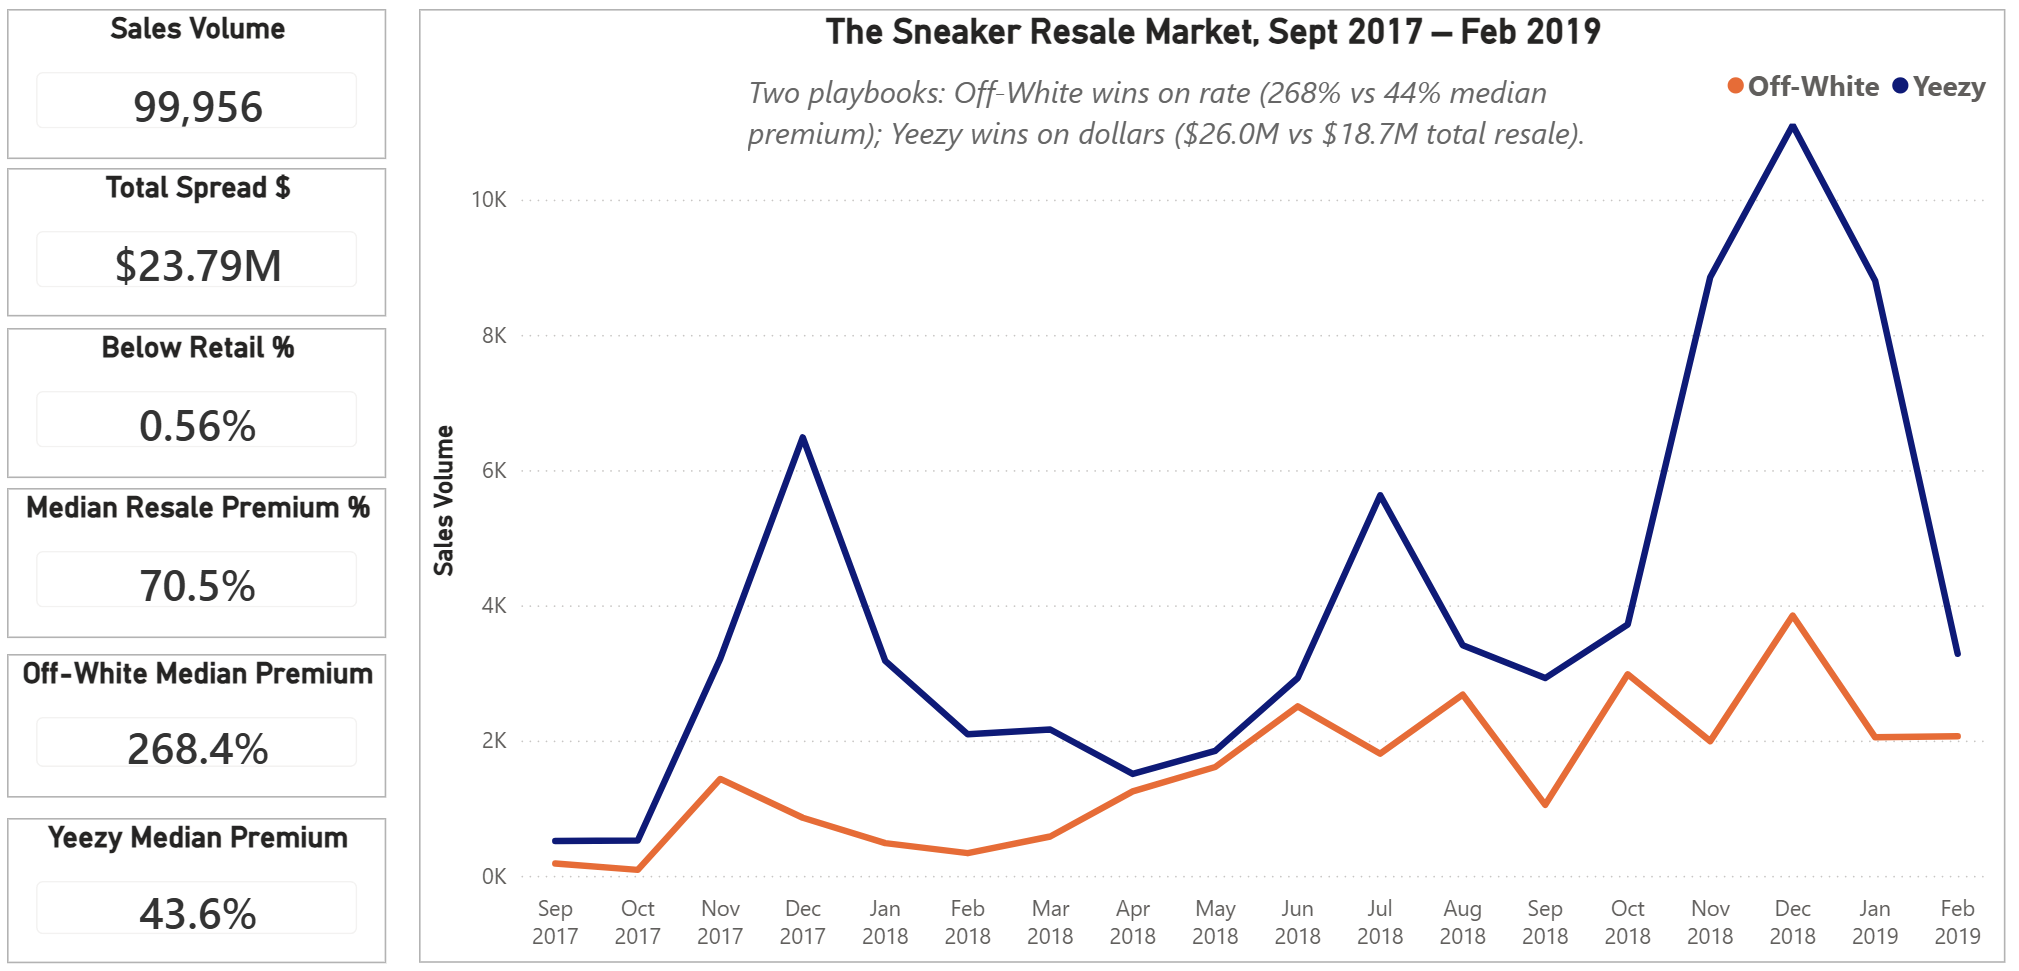

The dashboard page shown, as its layout file describes it:
{"tool":"powerbi","page":{"name":"Market Overview","canvas":[1280,720],"ordinal":0},"visuals":[{"type":"lineChart","title":"The Sneaker Resale Market, Sept 2017 – Feb 2019","fields":{"Category":["Dim_Date.Month-Year"],"Series":["dim_sneaker.brand"],"Y":["fact_sales.Sales Volume"]},"box":[275,115.7,982.9,591.4],"z":0},{"type":"cardVisual","title":"Sales Volume","fields":{"Data":["fact_sales.Sales Volume"]},"box":[20,115.7,235,92.9],"z":1000},{"type":"cardVisual","title":"Total Spread $","fields":{"Data":["fact_sales.Total Spread $"]},"box":[20,214.3,235,92.1],"z":2000},{"type":"cardVisual","title":"Below Retail %","fields":{"Data":["fact_sales.Below Retail %"]},"box":[20,313.6,235,92.9],"z":3000},{"type":"cardVisual","title":"Median Resale Premium %","fields":{"Data":["fact_sales.Median Resale Premium %"]},"box":[20,412.9,235,92.9],"z":4000},{"type":"cardVisual","title":"Off-White Median Premium","fields":{"Data":["fact_sales.Median Resale Premium %"]},"box":[20,515.7,235,88.6],"z":5000},{"type":"cardVisual","title":"Yeezy Median Premium","fields":{"Data":["fact_sales.Median Resale Premium %"]},"box":[20,617.1,235,90],"z":6000},{"type":"textbox","box":[474.3,149.3,560,65],"z":7000}]}

Visuals, with their boxes on the page's 1280x720 design canvas (x1, y1, x2, y2). These are canvas units, not pixel positions in the 2019x971 screenshot, which may show the page scaled, cropped or inside an application window:
"The Sneaker Resale Market, Sept 2017 – Feb 2019" lineChart: region(275, 116, 1258, 707)
"Sales Volume" cardVisual: region(20, 116, 255, 209)
"Total Spread $" cardVisual: region(20, 214, 255, 306)
"Below Retail %" cardVisual: region(20, 314, 255, 406)
"Median Resale Premium %" cardVisual: region(20, 413, 255, 506)
"Off-White Median Premium" cardVisual: region(20, 516, 255, 604)
"Yeezy Median Premium" cardVisual: region(20, 617, 255, 707)
textbox: region(474, 149, 1034, 214)
